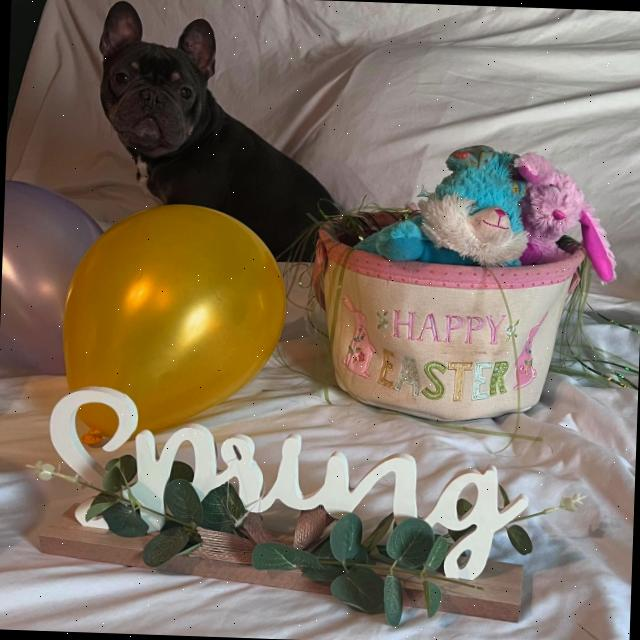french_bulldog_dog: (67, 0, 245, 175)
